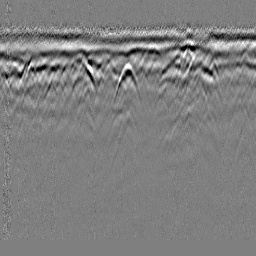cavity: (111, 58, 142, 106)
